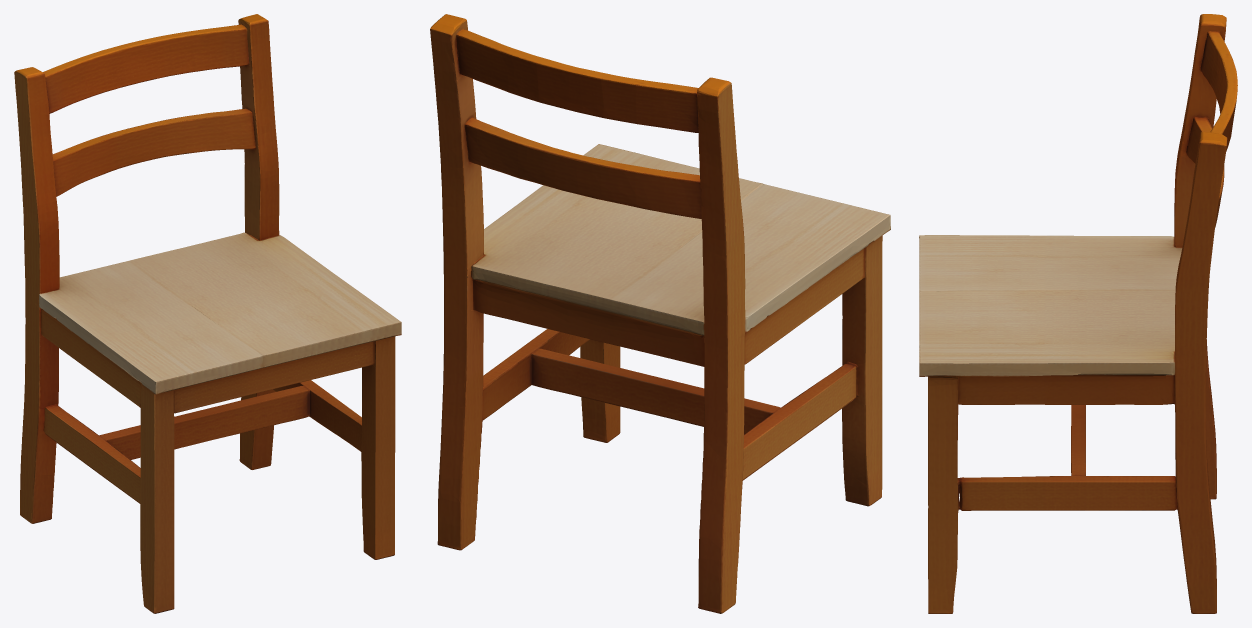
The model's file is chair0.glb.
3 views of the same model, side by side, from view 1: azimuth 30°, elevation 25°; view 2: azimuth 150°, elevation 25°; view 3: azimuth 270°, elevation 25° (orthographic). The views are drawn at different scales.
Visible parts, largest first — view 1: world; view 2: world; view 3: world.
Boxes of the visible parts, x1,y1,x2,y2 form: world: (14,14,401,613); world: (430,14,890,613); world: (919,14,1237,613).
Size of the model in its own units: 0.5788 by 0.9996 by 0.6069.
1 material, 1 textured.
